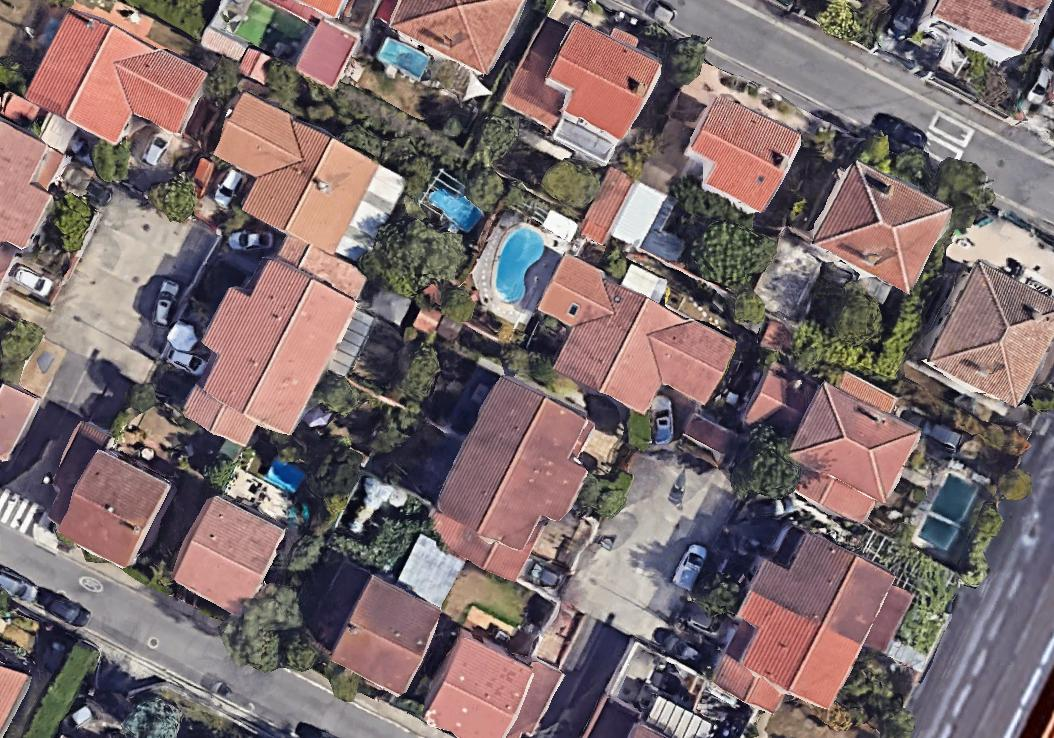maison: (163, 218, 376, 466), (702, 517, 917, 738), (515, 253, 739, 439), (419, 372, 608, 592), (191, 85, 408, 274), (723, 338, 931, 532), (22, 3, 211, 171), (495, 0, 671, 171), (26, 418, 183, 572), (803, 151, 956, 298), (916, 256, 1054, 414), (299, 560, 445, 698), (674, 91, 805, 218), (167, 493, 287, 617), (414, 629, 539, 738), (0, 93, 68, 273), (386, 0, 525, 77), (921, 0, 1051, 62), (0, 383, 39, 466), (0, 666, 29, 737), (267, 0, 347, 20)
